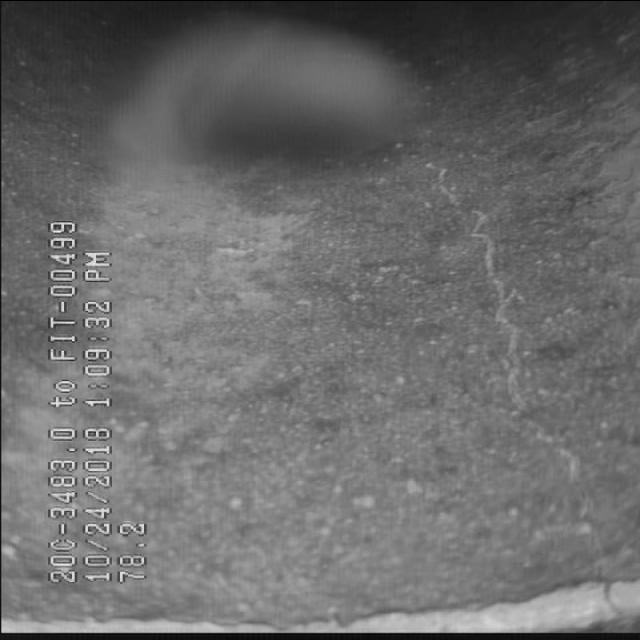Crack: (434, 160, 540, 430)
